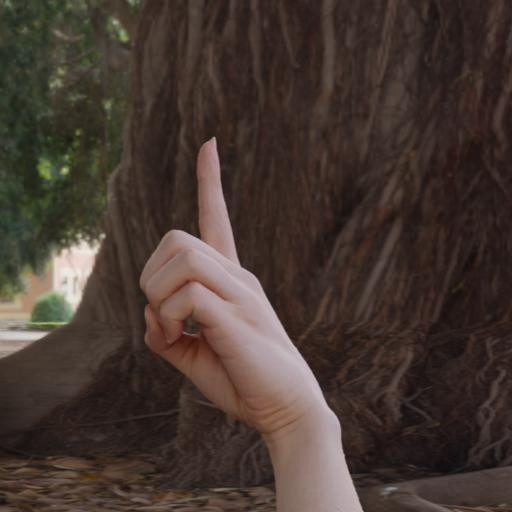D: (114, 126, 344, 458)
